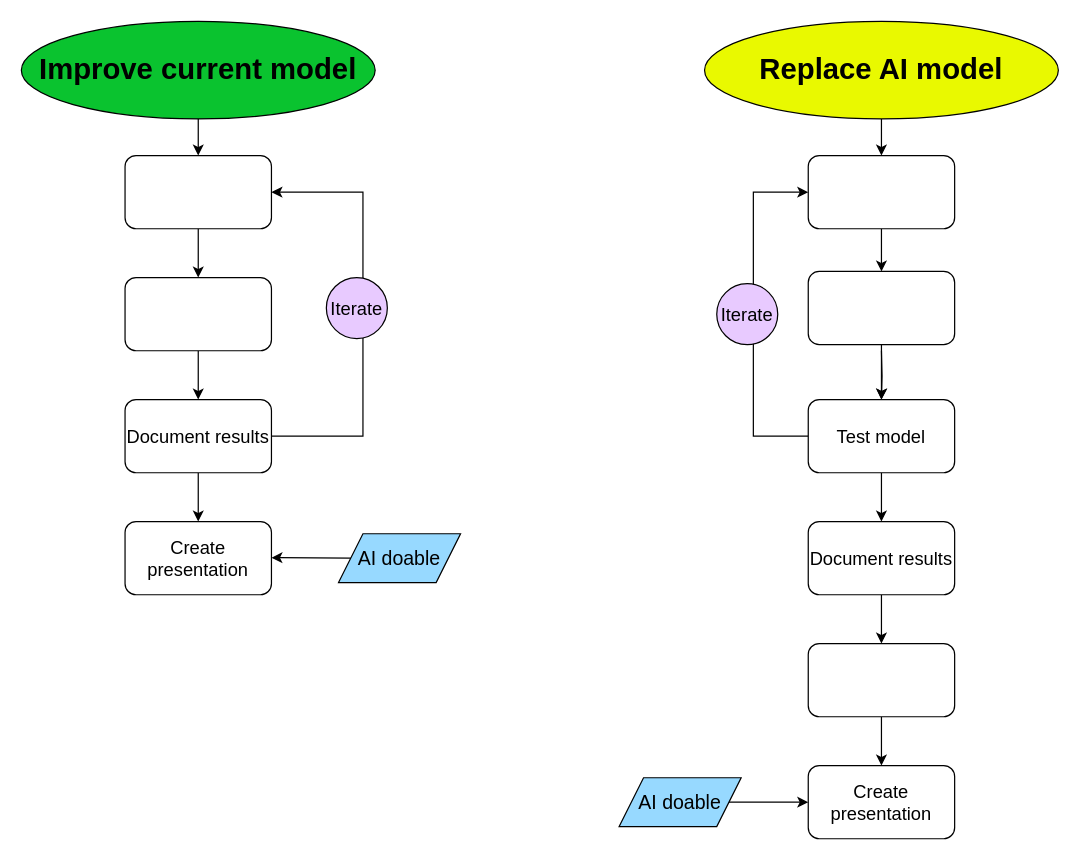
This 1080x860 diagram has some shape labels left out. Each missing label, with the centre of its shape:
"Enhance current ChatGPT 4.0 prompt" belongs at point (197, 313).
"Identify current struggling tasks" belongs at point (197, 191).
"Pick model" belongs at point (881, 307).
"Research AI model" belongs at point (881, 191).
"Research pricing" belongs at point (881, 679).
